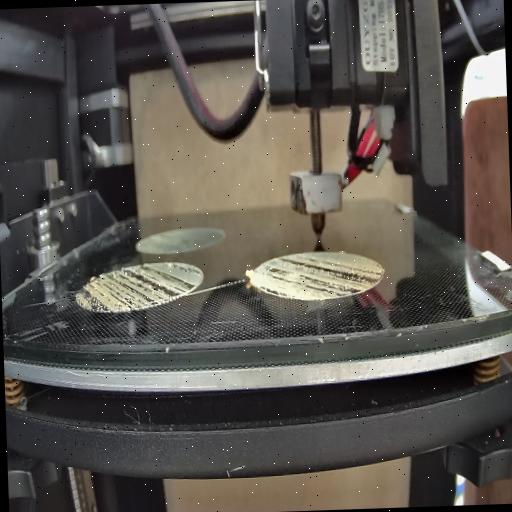under_extrusion: (74, 258, 197, 313), (259, 253, 384, 302)
